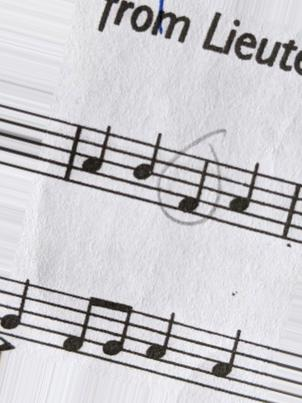A: (204, 326, 242, 401), (225, 160, 261, 238), (144, 307, 179, 387), (79, 121, 112, 197)
B: (130, 129, 164, 207)
F: (174, 154, 212, 220)
G: (1, 277, 32, 343)
